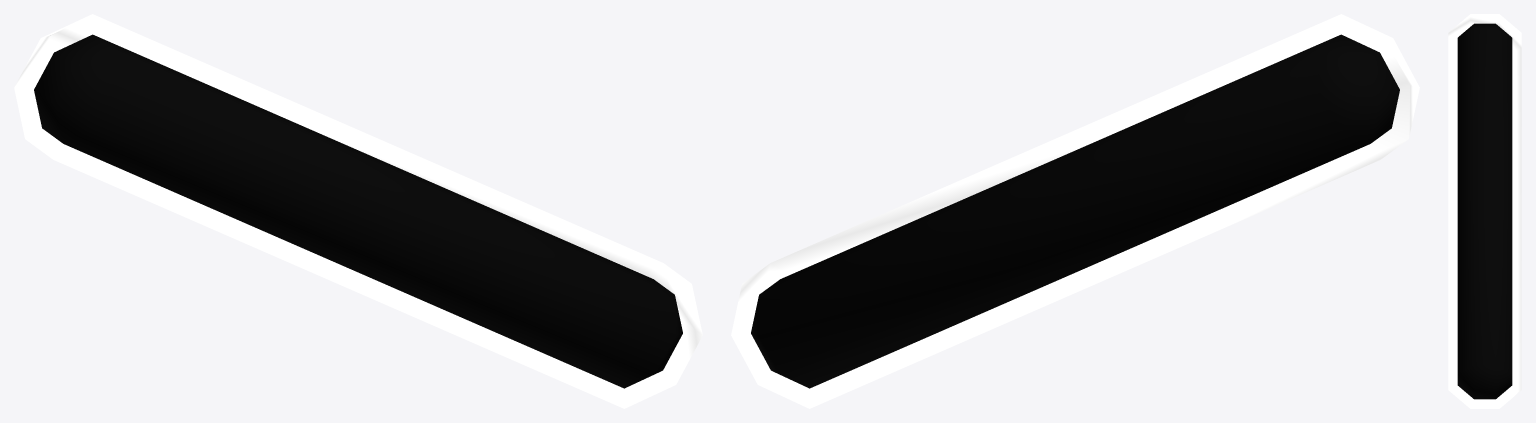
File: characterArm.glb
3 renders of one model, left to right at view 1: azimuth 30°, elevation 25°; view 2: azimuth 150°, elevation 25°; view 3: azimuth 270°, elevation 25°, orthographic. The views are drawn at different scales.
Visible parts, largest first — view 1: Arm, ArmOutline; view 2: Arm, ArmOutline; view 3: Arm, ArmOutline.
Part boxes in pixels (x1=…): Arm: x1=34, y1=34, x2=682, y2=388; ArmOutline: x1=14, y1=14, x2=702, y2=408; Arm: x1=751, y1=34, x2=1399, y2=388; ArmOutline: x1=731, y1=14, x2=1419, y2=408; Arm: x1=1457, y1=23, x2=1512, y2=399; ArmOutline: x1=1448, y1=14, x2=1521, y2=408.
Size of the model in its own units: 0.000731 by 0.000526 by 0.000137.
Materials: 2 (2 with a texture image).
